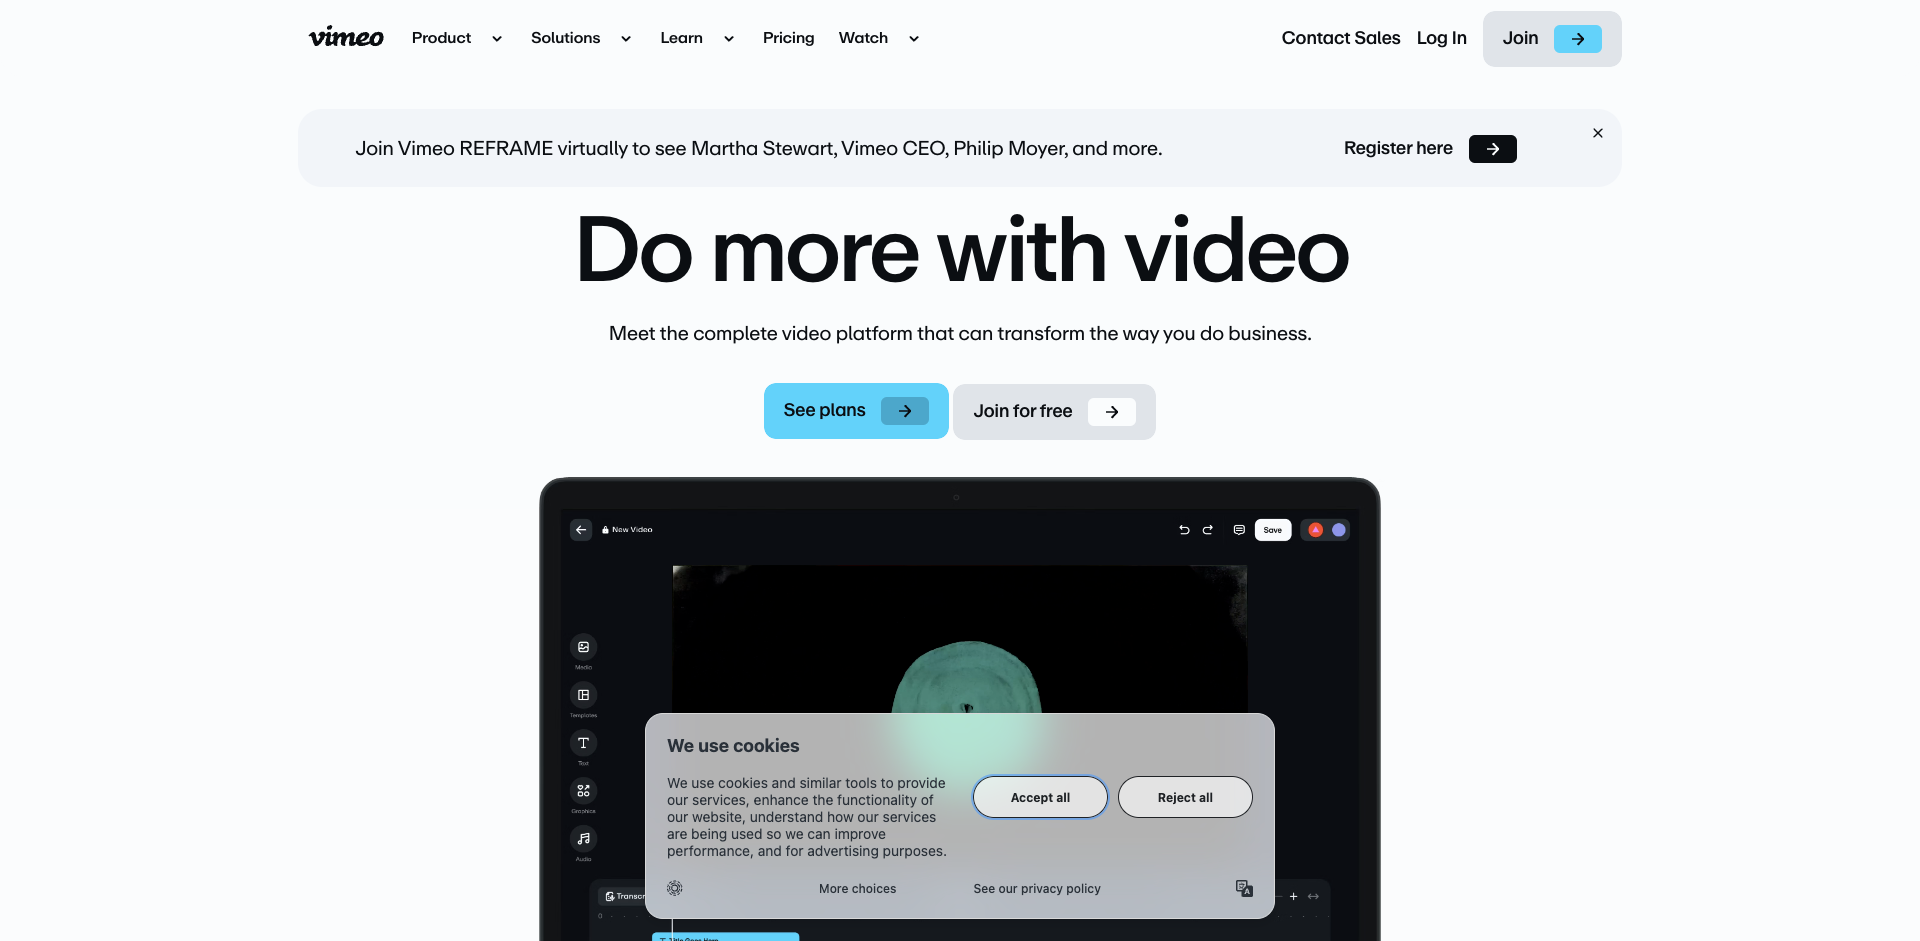button: (77, 347, 1843, 441), (954, 382, 1156, 441), (954, 384, 1156, 440), (764, 382, 949, 439), (1483, 11, 1622, 66), (1483, 11, 1622, 66), (1343, 134, 1565, 163), (531, 12, 637, 65), (531, 12, 637, 65), (411, 12, 507, 65), (411, 12, 507, 65), (764, 397, 949, 424), (1343, 135, 1517, 163), (839, 12, 924, 65), (839, 12, 924, 65), (660, 12, 738, 65), (660, 12, 738, 65), (1282, 26, 1401, 51), (1282, 26, 1401, 51), (1282, 26, 1401, 51), (1343, 136, 1452, 162), (763, 12, 814, 65), (973, 399, 1073, 424), (784, 398, 866, 424), (531, 27, 600, 50), (411, 27, 471, 50), (1554, 25, 1603, 53), (1469, 135, 1517, 163), (882, 397, 929, 425), (1089, 398, 1136, 426), (1417, 26, 1467, 51), (1417, 26, 1467, 51), (1417, 26, 1467, 51), (763, 27, 814, 50), (763, 27, 814, 50), (839, 27, 888, 50), (660, 27, 703, 50), (1502, 26, 1538, 51), (1537, 28, 1556, 49), (1451, 138, 1471, 159), (1483, 138, 1502, 159), (895, 401, 916, 420), (1102, 402, 1123, 421), (863, 401, 883, 420), (1070, 402, 1090, 421), (1591, 125, 1607, 147), (1591, 125, 1607, 141), (1589, 132, 1591, 134)
link: (298, 12, 396, 65)
menu_item: (531, 12, 637, 65), (411, 12, 507, 65), (839, 12, 924, 65), (660, 12, 738, 65), (763, 12, 814, 65)
